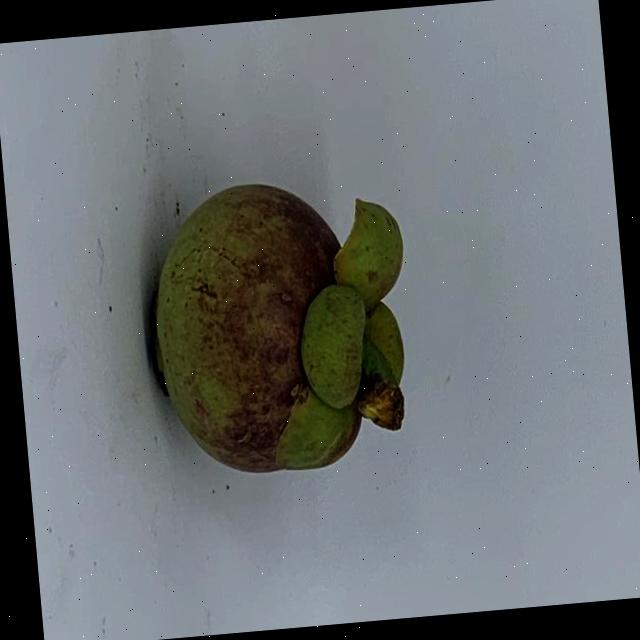mangosteen: (141, 158, 438, 486)
